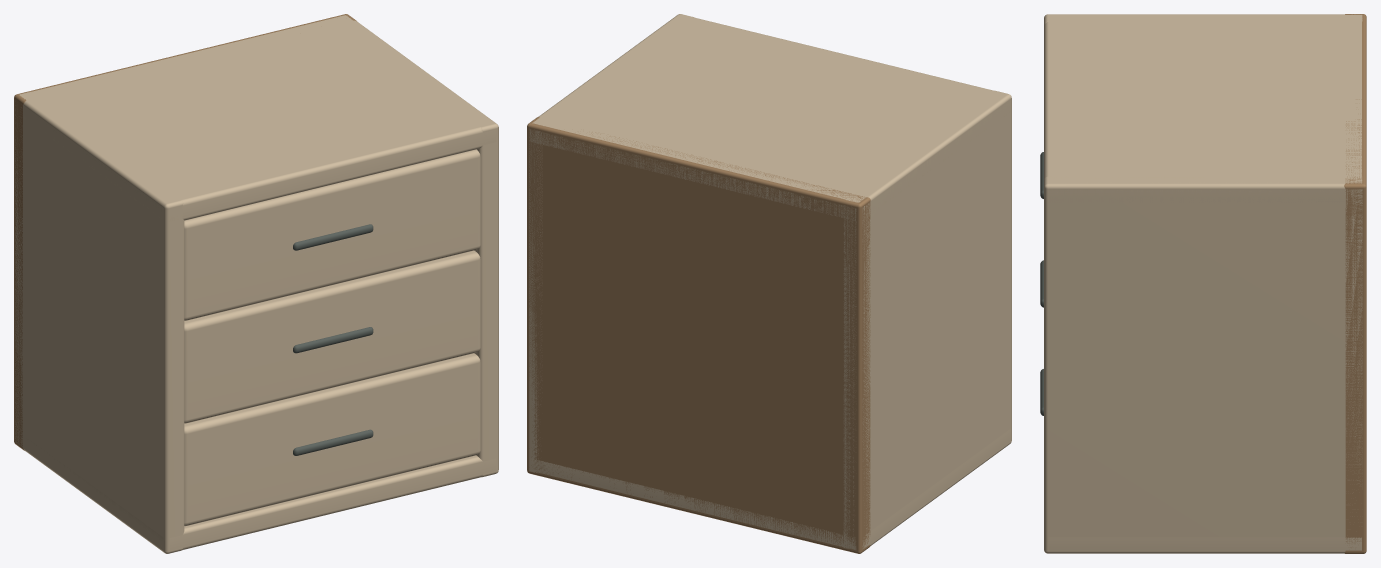
3 views of the same model, side by side, from view 1: azimuth 30°, elevation 25°; view 2: azimuth 150°, elevation 25°; view 3: azimuth 270°, elevation 25° (orthographic). The views are drawn at different scales.
Visible parts, largest first — view 1: side_-1, top, front_0_0, front_1_0, front_2_0, bottom, side_1, back, handle_2_0, handle_1_0, handle_0_0; view 2: back, side_-1, top, bottom, side_1; view 3: side_1, top, back, bottom.
Part boxes in pixels (left/top/right/bottom): side_-1: left=15, top=91, right=184, bottom=553; top: left=19, top=15, right=496, bottom=221; front_0_0: left=184, top=353, right=480, bottom=526; front_1_0: left=184, top=250, right=480, bottom=423; front_2_0: left=184, top=149, right=480, bottom=320; bottom: left=22, top=435, right=496, bottom=550; side_1: left=350, top=18, right=498, bottom=477; back: left=14, top=14, right=356, bottom=450; handle_2_0: left=293, top=224, right=373, bottom=250; handle_1_0: left=293, top=327, right=373, bottom=353; handle_0_0: left=293, top=429, right=373, bottom=455; back: left=527, top=117, right=870, bottom=553; side_-1: left=843, top=90, right=1011, bottom=548; top: left=530, top=14, right=1010, bottom=220; bottom: left=530, top=429, right=1010, bottom=549; side_1: left=529, top=14, right=694, bottom=472; side_1: left=1044, top=176, right=1362, bottom=553; top: left=1044, top=15, right=1361, bottom=202; back: left=1344, top=14, right=1366, bottom=553; bottom: left=1048, top=537, right=1361, bottom=550.
Size of the model in its own units: 0.5 by 0.5 by 0.4.
